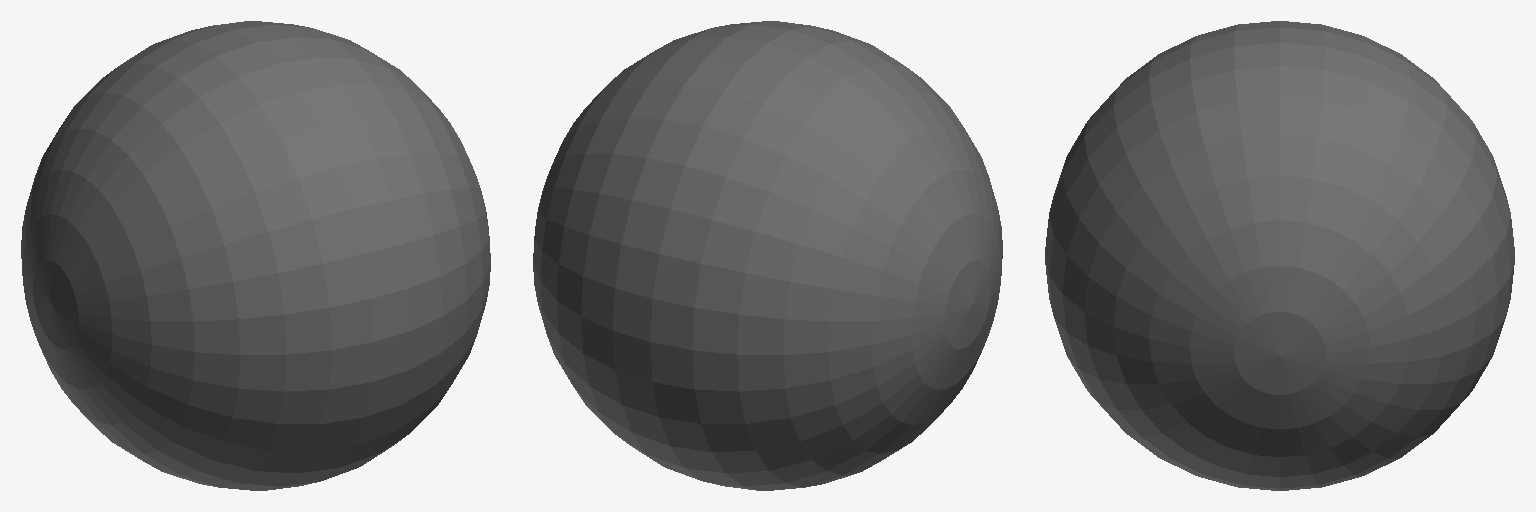
Rendered from ball.obj.
3 views of the same model, side by side, from view 1: azimuth 30°, elevation 25°; view 2: azimuth 150°, elevation 25°; view 3: azimuth 270°, elevation 25° (orthographic).
Visible parts, largest first — view 1: Tennis_Ball_Untitled; view 2: Tennis_Ball_Untitled; view 3: Tennis_Ball_Untitled.
Part boxes in pixels (left/top/right/bottom): Tennis_Ball_Untitled: left=21, top=21, right=490, bottom=490; Tennis_Ball_Untitled: left=533, top=21, right=1002, bottom=490; Tennis_Ball_Untitled: left=1045, top=21, right=1514, bottom=490.
Size of the model in its own units: 0.1 by 0.1 by 0.1.